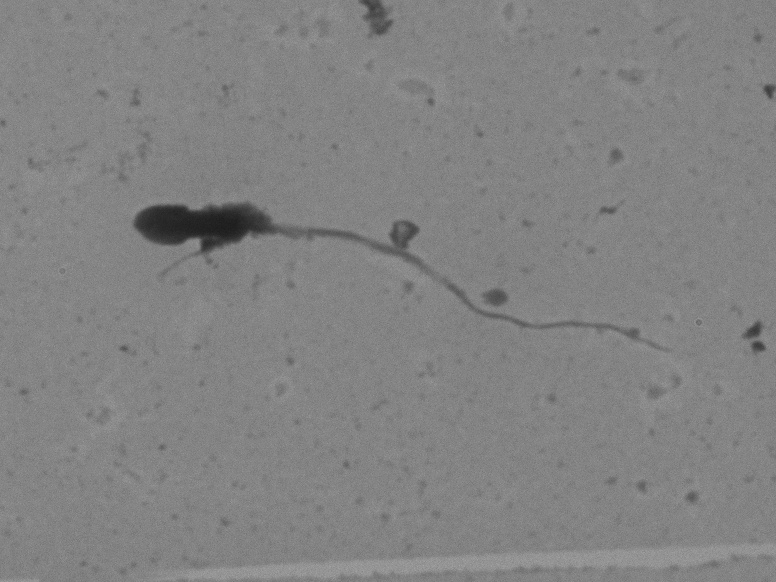Abnormal: (103, 170, 675, 398)
